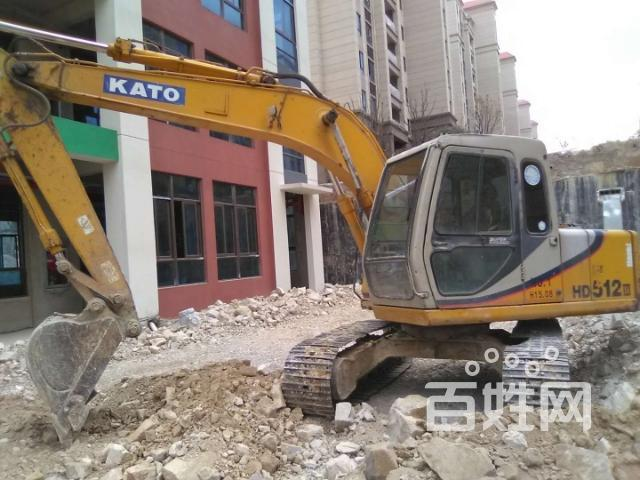excavator: (2, 14, 640, 441)
